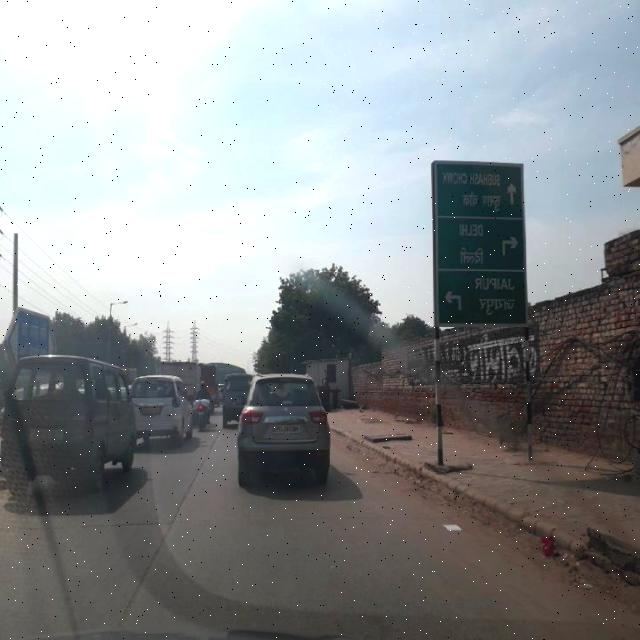D01: (163, 450, 213, 544), (121, 546, 163, 628)
